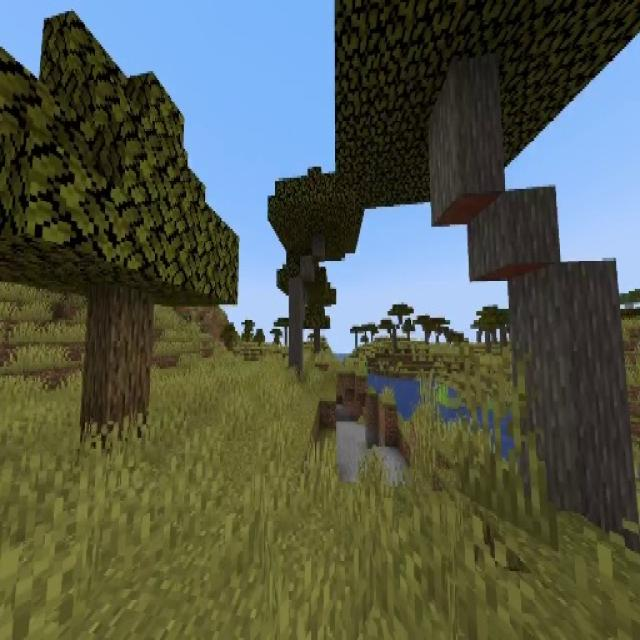acacia: (266, 167, 362, 373)
acacia_log: (507, 255, 640, 532), (428, 67, 504, 217), (475, 190, 550, 279), (288, 278, 304, 372)
oak: (0, 0, 235, 447)
oak_log: (82, 286, 156, 440)
